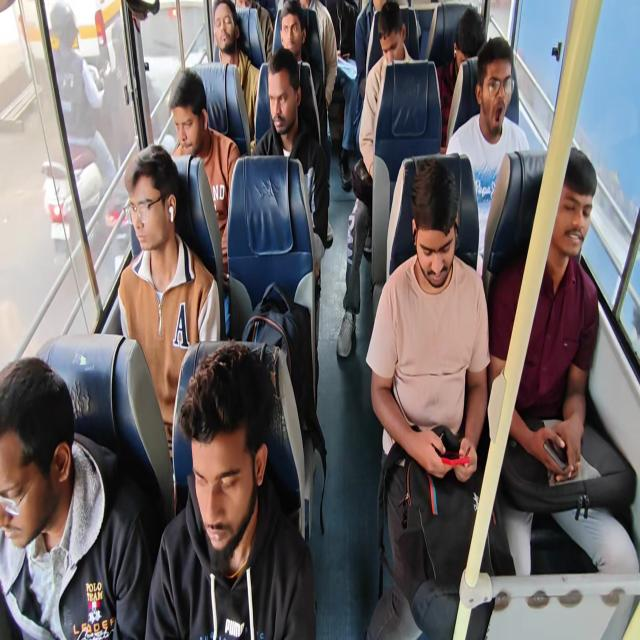person: (2, 1, 638, 638), (486, 145, 638, 577), (366, 158, 494, 638), (144, 340, 317, 639), (0, 356, 152, 639), (117, 144, 221, 478), (336, 1, 416, 358), (444, 36, 530, 278), (39, 1, 117, 250), (251, 47, 331, 279), (168, 69, 241, 282), (338, 0, 387, 191), (436, 7, 485, 147), (212, 0, 260, 141), (278, 0, 322, 145), (234, 0, 274, 65)
